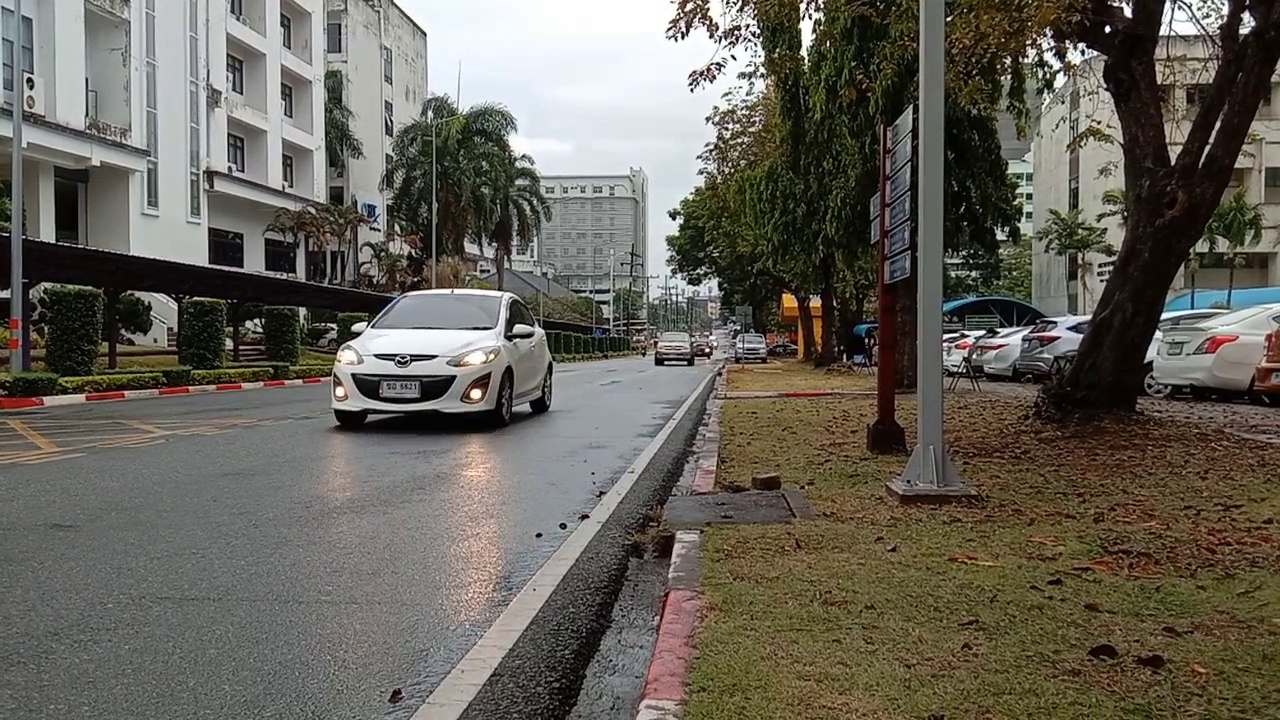License Plate: (378, 376, 421, 398)
